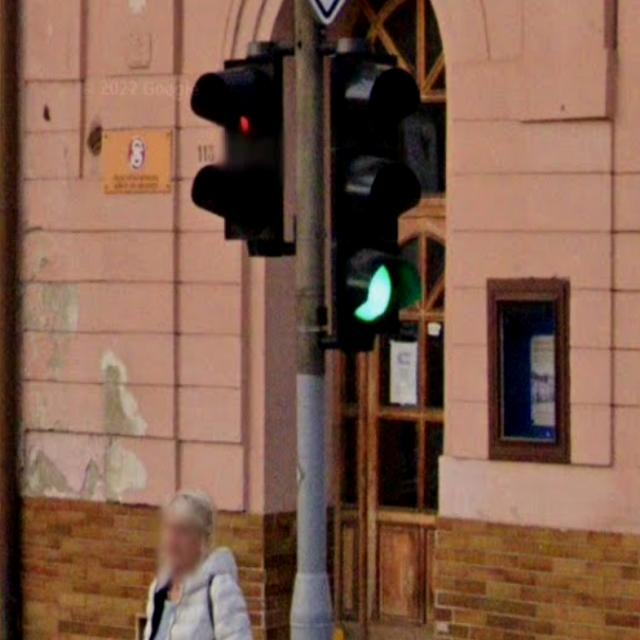green_light: (326, 53, 425, 349)
